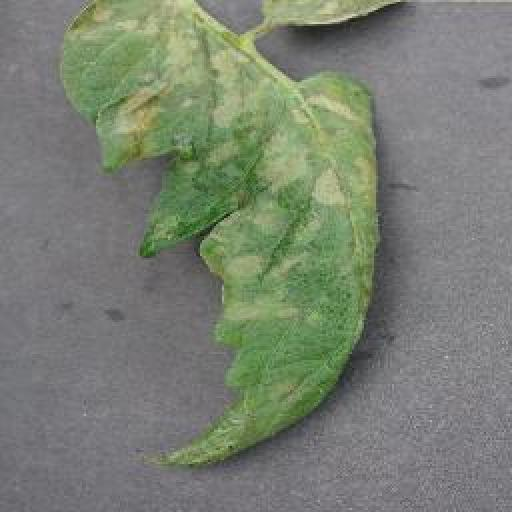disease_tomato: (59, 0, 381, 472)
